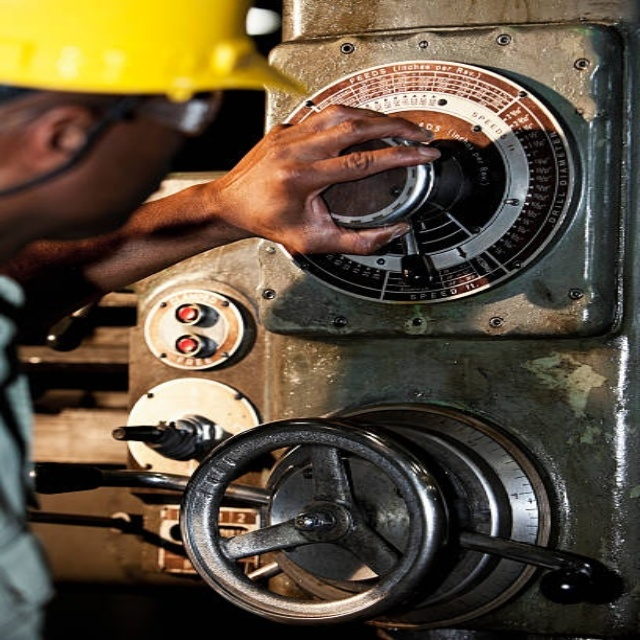Gafas: (89, 88, 227, 131)
Sin_guantes: (205, 103, 446, 261)
